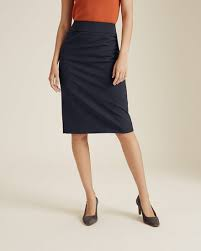F_tailored skirt: (55, 16, 142, 138)
